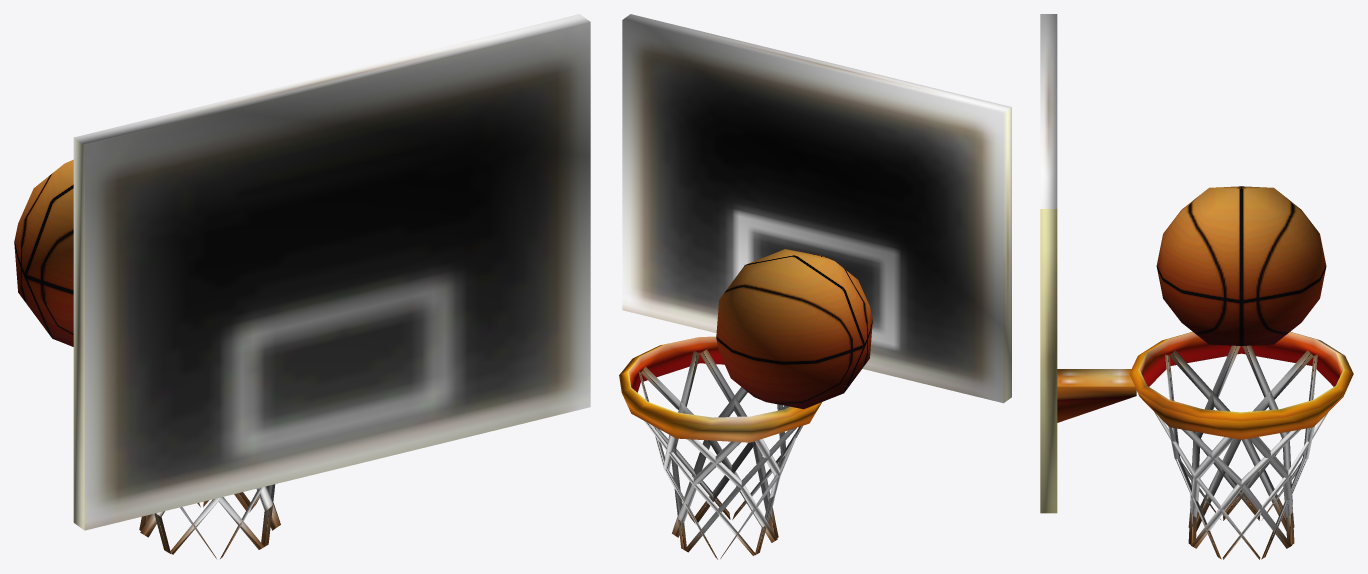
Rendered from nba2nig1.ico.obj.
The picture shows the model from 3 angles, left to right: view 1: azimuth 30°, elevation 25°; view 2: azimuth 150°, elevation 25°; view 3: azimuth 270°, elevation 25°; orthographic projection. The views are drawn at different scales.
Size of the model in its own units: 2.75 by 2.82 by 1.87.
1 material, 1 textured.
